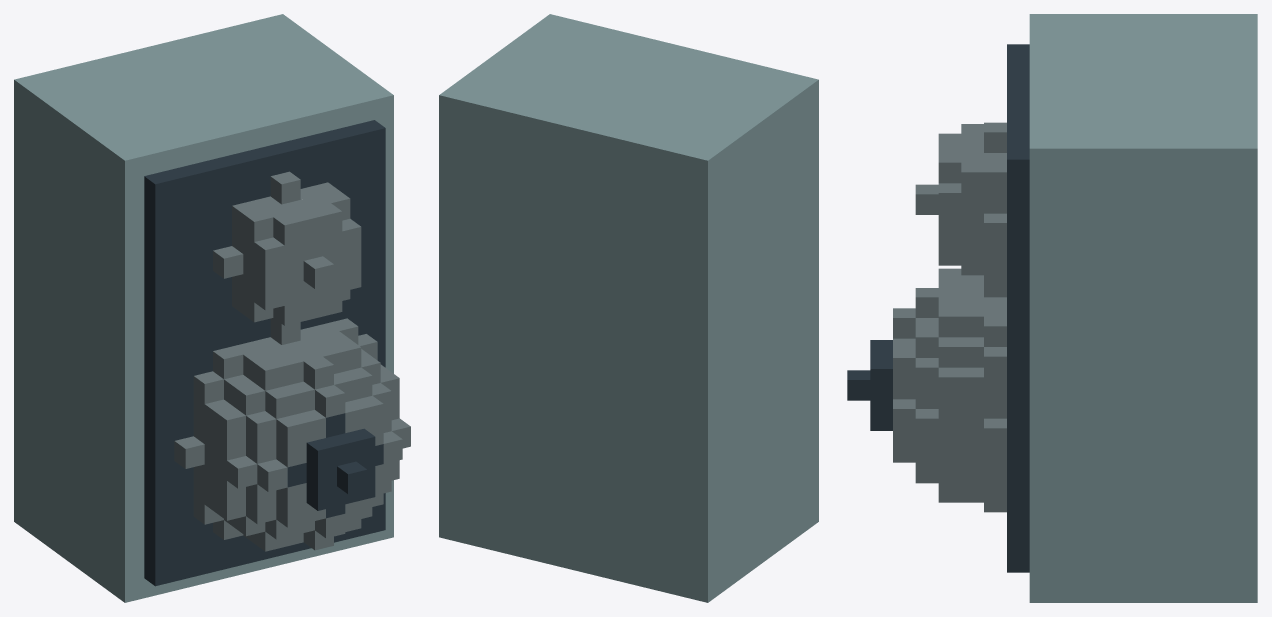
Rendered from iot-03.glb.
3 renders of one model, left to right at view 1: azimuth 30°, elevation 25°; view 2: azimuth 150°, elevation 25°; view 3: azimuth 270°, elevation 25°, orthographic. The views are drawn at different scales.
Parts seen in each view (by area): view 1: Smart speaker; view 2: Smart speaker; view 3: Smart speaker.
Part boxes in pixels (x1,y1,x2,y2): Smart speaker: (14, 14, 410, 602); Smart speaker: (439, 14, 818, 602); Smart speaker: (847, 14, 1257, 602).
Size of the model in its own units: 1.12 by 1.76 by 1.44.
